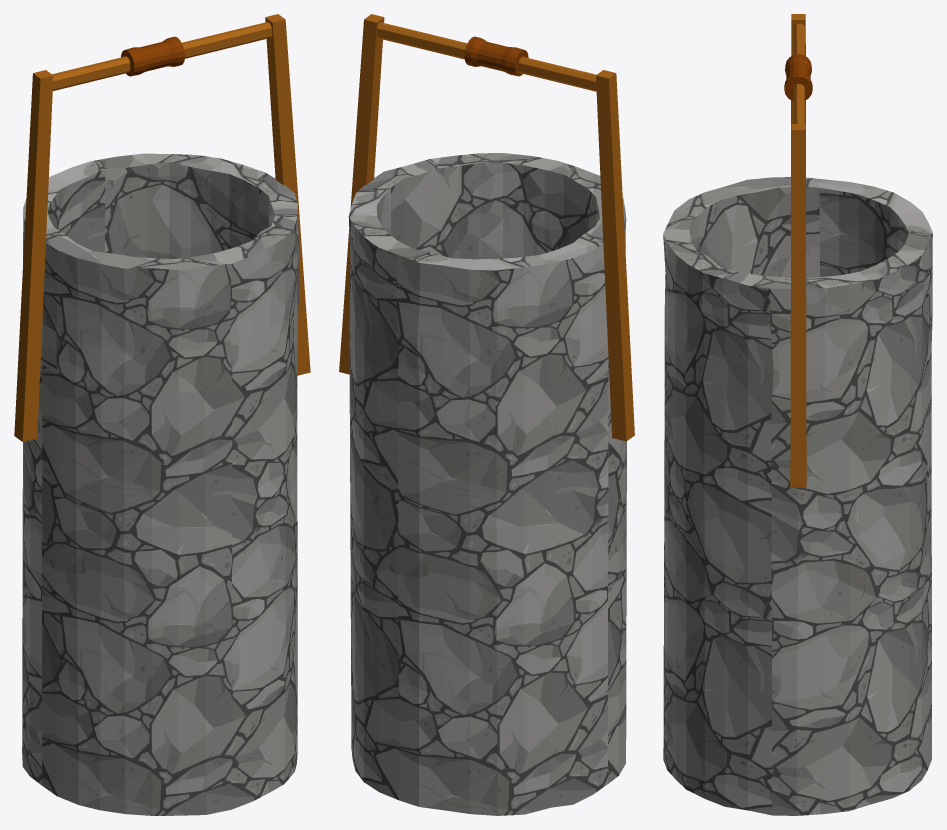
File: poço.fbx
3 renders of one model, left to right at view 1: azimuth 30°, elevation 25°; view 2: azimuth 150°, elevation 25°; view 3: azimuth 270°, elevation 25°, orthographic. The views are drawn at different scales.
Parts seen in each view (by area): view 1: Circle; view 2: Circle; view 3: Circle.
Boxes of the visible parts, x1,y1,x2,y2 form: Circle: (14, 14, 310, 815); Circle: (339, 14, 634, 815); Circle: (663, 14, 932, 815).
Size of the model in its own units: 1079 by 2569 by 908.
